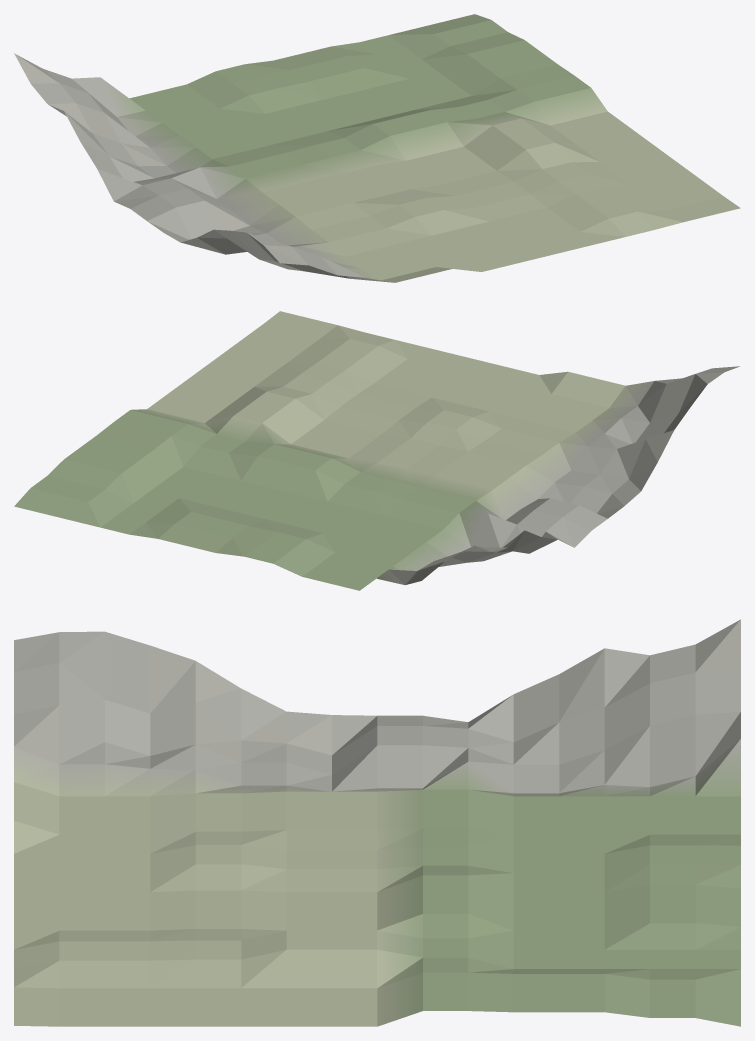
3 renders of one model, top to bottom at view 1: azimuth 30°, elevation 25°; view 2: azimuth 150°, elevation 25°; view 3: azimuth 270°, elevation 25°, orthographic. The views are drawn at different scales.
Bounding box in the file's own units: 32 × 5.68 × 32.
